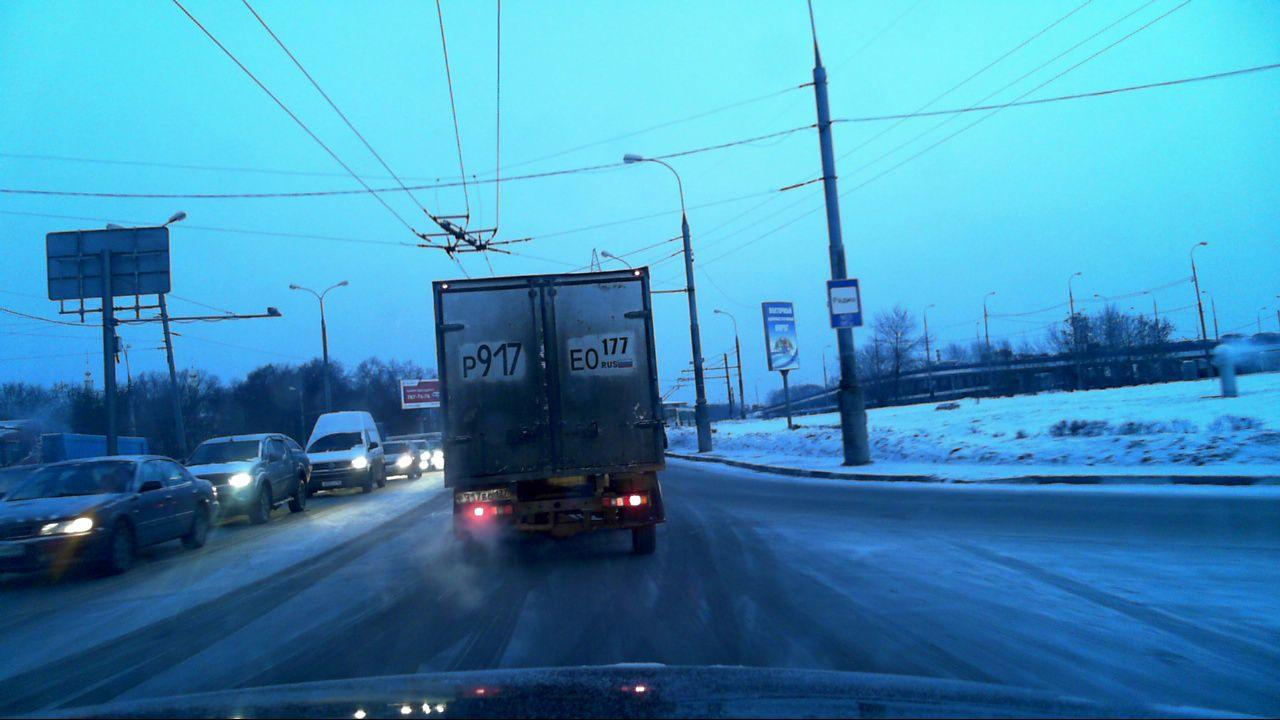7_15: (826, 277, 863, 326)
